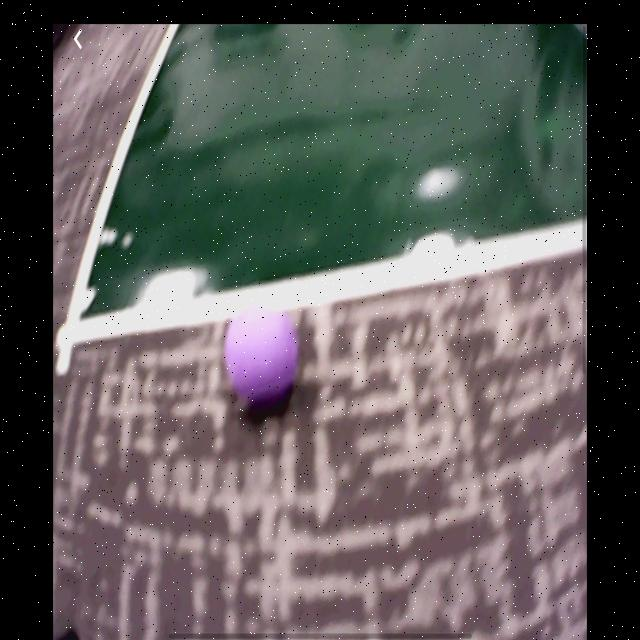ball: (223, 307, 301, 418)
